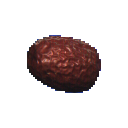gd: (8, 18, 116, 110)
